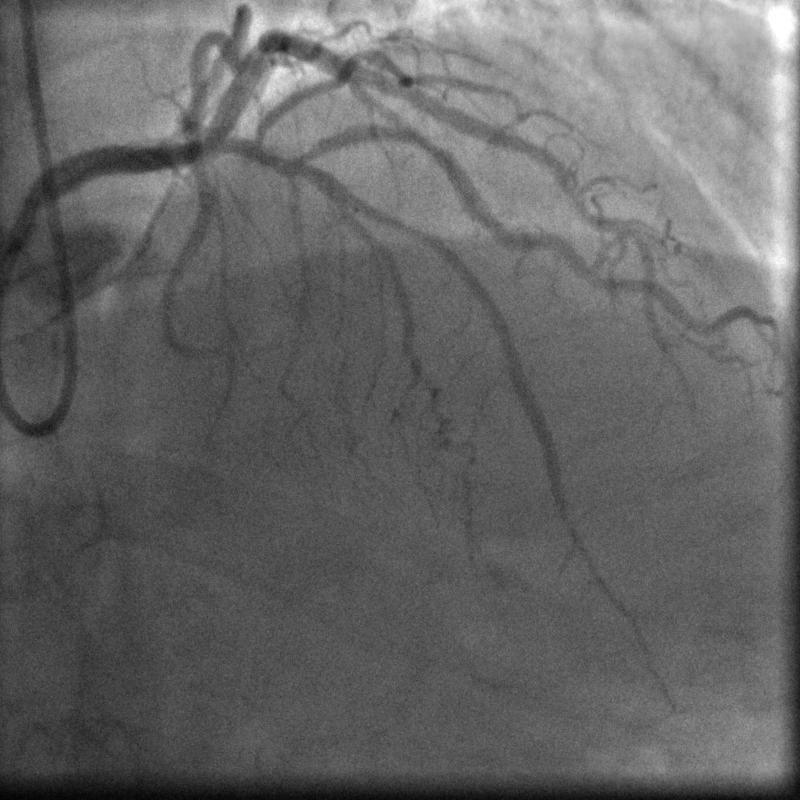Stenosis: (404, 119, 449, 163)
